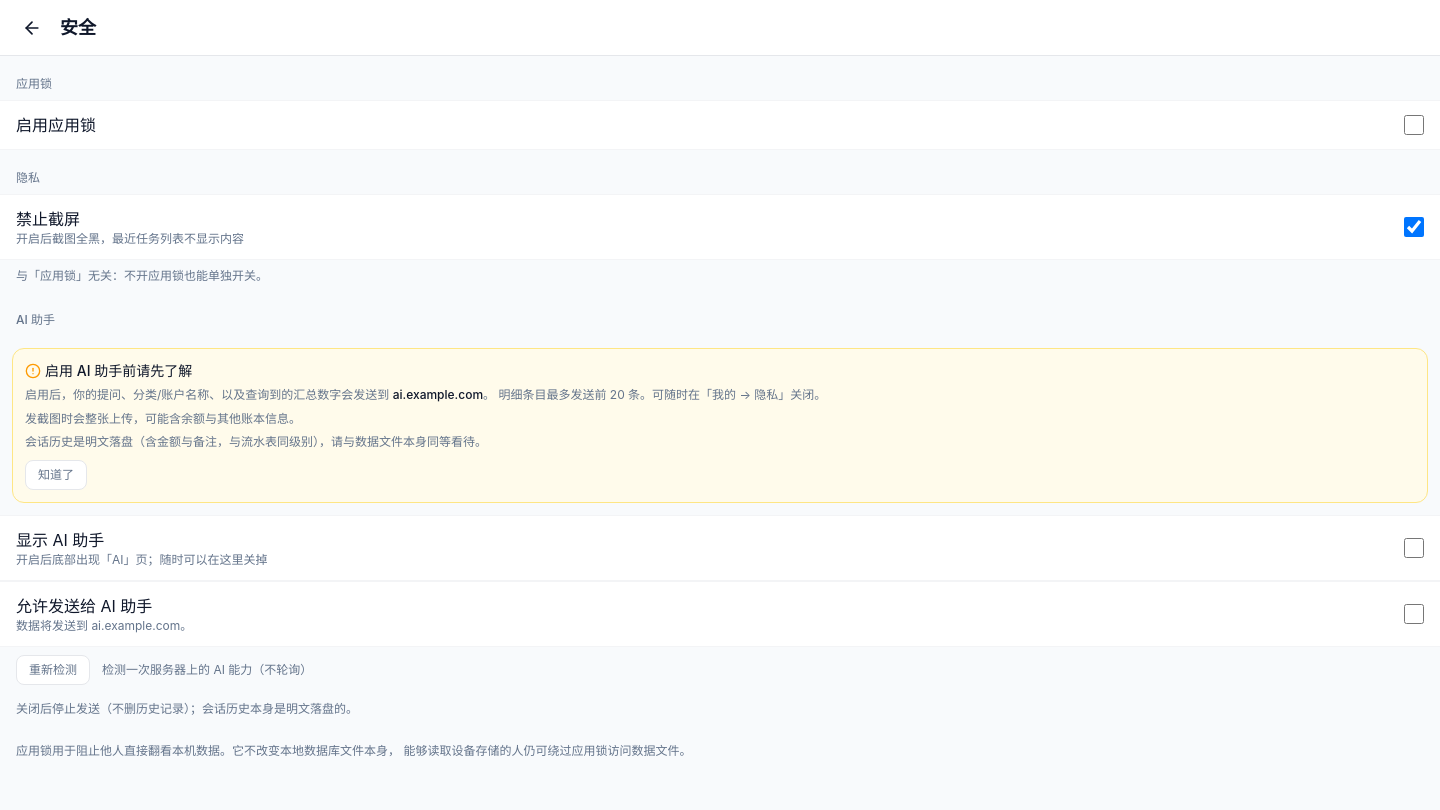
Test: SecurityPage 的 AI 意愿层开关（§7.3） › 落盘失败 ⇒ 报错 + DOM 勾选态拉回真相（不许显示一个没写进去的开关）
Click the checkbox with test id "ai-sending-enabled" at (1414,614), box [1404,604,1424,624]
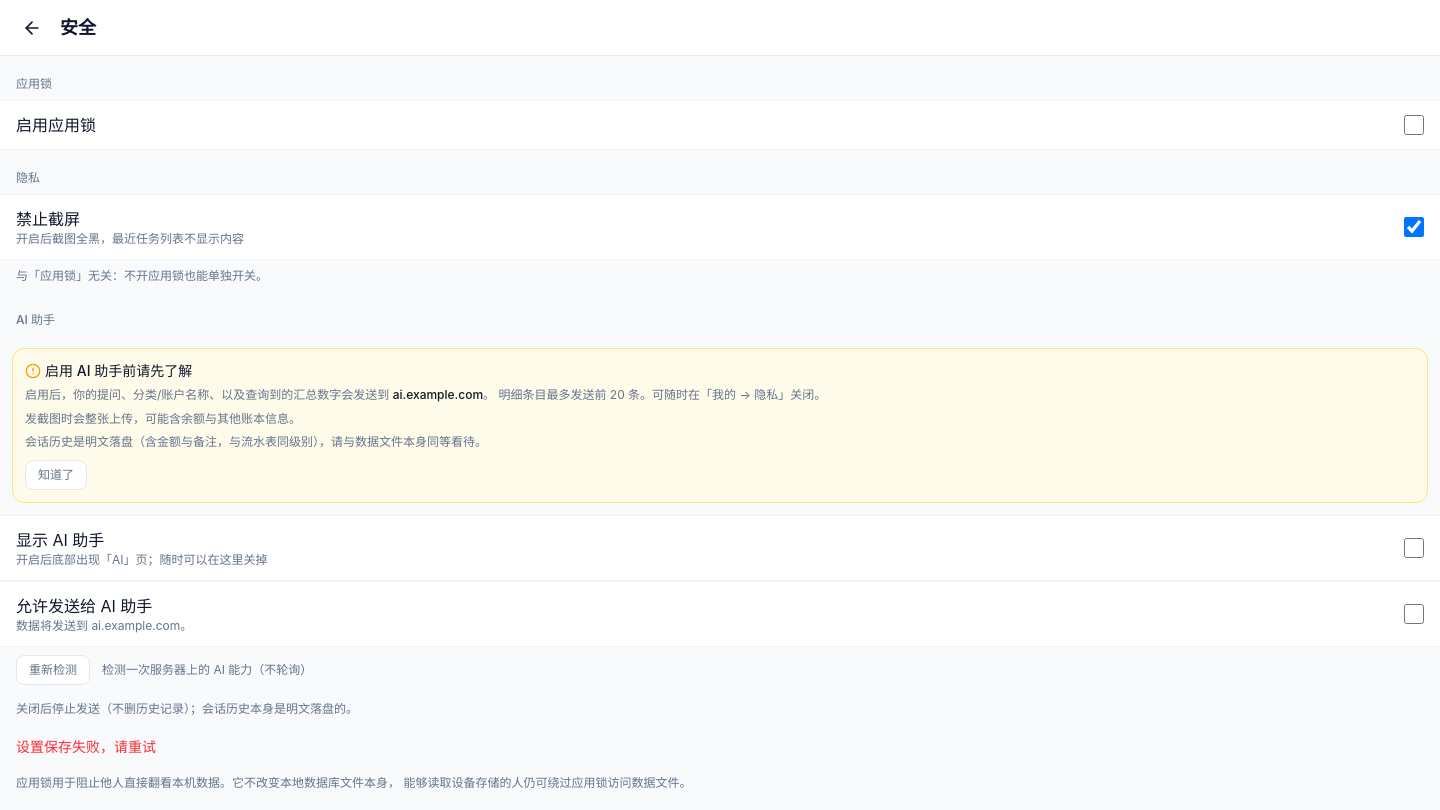
Expected: the message with test id "security-error" reads "设置保存失败，请重试", [16,738,156,754]
